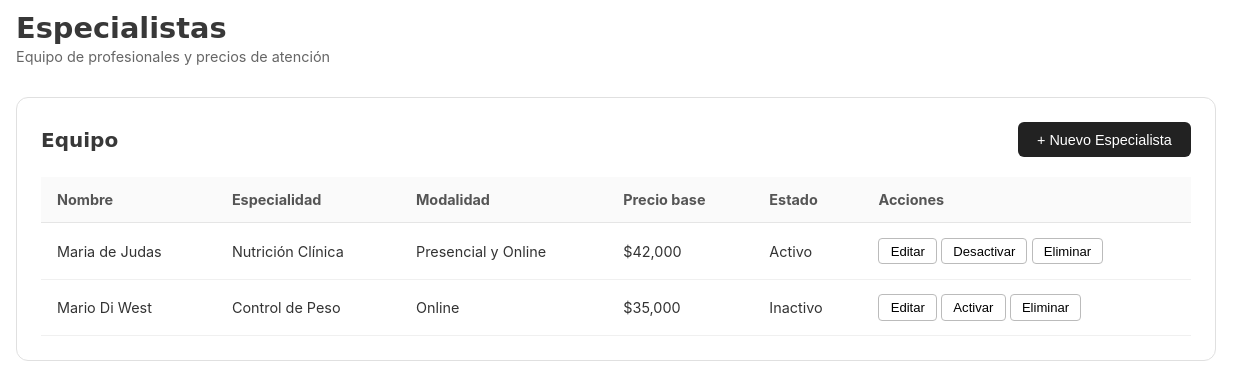
Scenario: Especialistas › elimina un especialista después de confirmar
Expected: the text "Maria de Judas" is shown, left=41, top=223, right=216, bottom=279
Click the button "Eliminar" in the row of "Maria de Judas". click: (1067, 251)
box: left=1032, top=238, right=1103, bottom=264
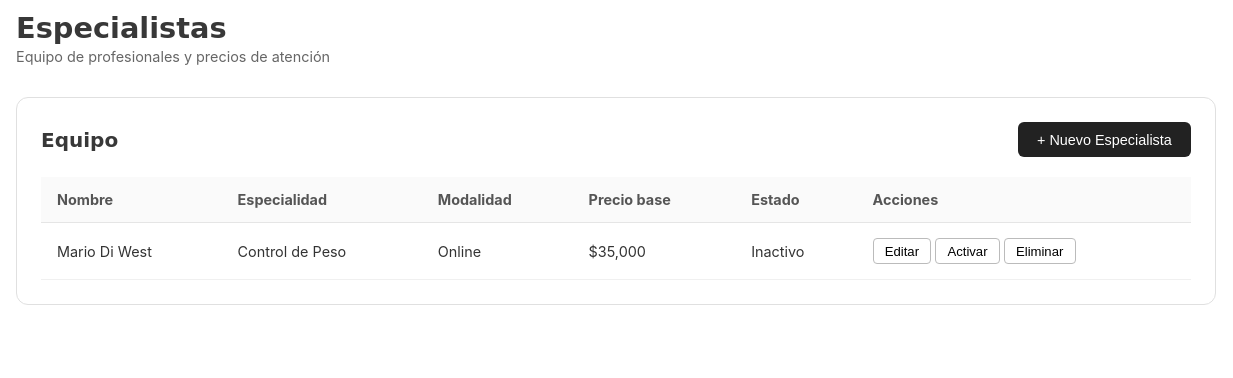
Result: the text "Maria de Judas" is gone
